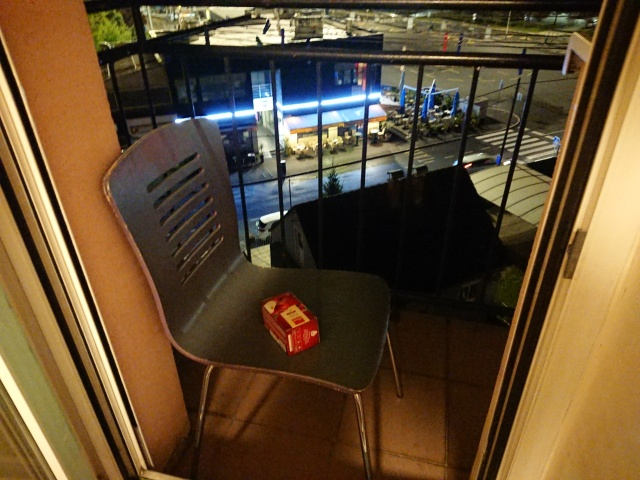Franck Apple Cinnamon Tea 60g: (257, 287, 324, 358)
